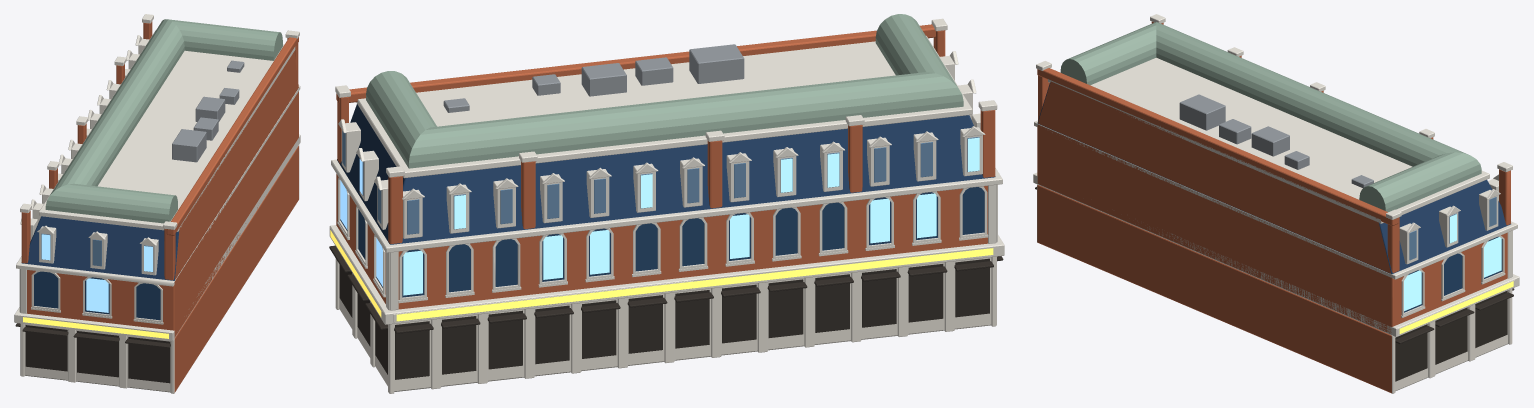
The model's file is audiffred-building.glb.
The picture shows the model from 3 angles, left to right: view 1: azimuth 30°, elevation 25°; view 2: azimuth 150°, elevation 25°; view 3: azimuth 270°, elevation 25°; orthographic projection. The views are drawn at different scales.
Visible parts, largest first — view 1: grp_Toy_trim, grp_Toy_brick, vault, mansard, grp_Toy_ink, grp_Toy_cream, grp_Toy_steel, grp_Toy_glass, grp_Toy_glassl_Glow, grp_Toy_gold_Glow, grp_Toy_glassl; view 2: grp_Toy_trim, grp_Toy_brick, grp_Toy_ink, vault, mansard, grp_Toy_cream, grp_Toy_glass, grp_Toy_glassl_Glow, grp_Toy_steel, grp_Toy_gold_Glow, grp_Toy_glassl; view 3: grp_Toy_brick, grp_Toy_trim, mansard, vault, grp_Toy_ink, grp_Toy_steel, grp_Toy_cream, grp_Toy_glassl_Glow, grp_Toy_glass, grp_Toy_gold_Glow, grp_Toy_glassl.
Part boxes in pixels (x1,y1,x2,y2): grp_Toy_trim: [14, 14, 300, 340]; grp_Toy_brick: [21, 21, 298, 392]; vault: [45, 19, 282, 223]; mansard: [22, 51, 298, 280]; grp_Toy_ink: [15, 323, 170, 383]; grp_Toy_cream: [20, 145, 299, 393]; grp_Toy_steel: [172, 60, 244, 162]; grp_Toy_glass: [34, 271, 160, 320]; grp_Toy_glassl_Glow: [41, 234, 152, 312]; grp_Toy_gold_Glow: [23, 317, 168, 338]; grp_Toy_glassl: [41, 233, 153, 272]; grp_Toy_trim: [329, 18, 1004, 324]; grp_Toy_brick: [336, 24, 995, 309]; grp_Toy_ink: [329, 245, 1003, 379]; vault: [366, 14, 963, 168]; mansard: [337, 104, 995, 244]; grp_Toy_cream: [329, 228, 996, 393]; grp_Toy_glass: [340, 187, 984, 297]; grp_Toy_glassl_Glow: [340, 137, 979, 295]; grp_Toy_steel: [443, 44, 744, 112]; grp_Toy_gold_Glow: [330, 230, 993, 321]; grp_Toy_glassl: [342, 131, 979, 234]; grp_Toy_brick: [1037, 21, 1510, 393]; grp_Toy_trim: [1033, 14, 1519, 337]; mansard: [1037, 81, 1510, 274]; vault: [1060, 22, 1481, 212]; grp_Toy_ink: [1035, 187, 1514, 381]; grp_Toy_steel: [1179, 94, 1373, 187]; grp_Toy_cream: [1037, 184, 1515, 393]; grp_Toy_glassl_Glow: [1404, 214, 1501, 311]; grp_Toy_glass: [1404, 236, 1502, 312]; grp_Toy_gold_Glow: [1399, 281, 1513, 333]; grp_Toy_glassl: [1409, 196, 1496, 260].
Size of the model in its own units: 40.42 by 17.5 by 40.28.
